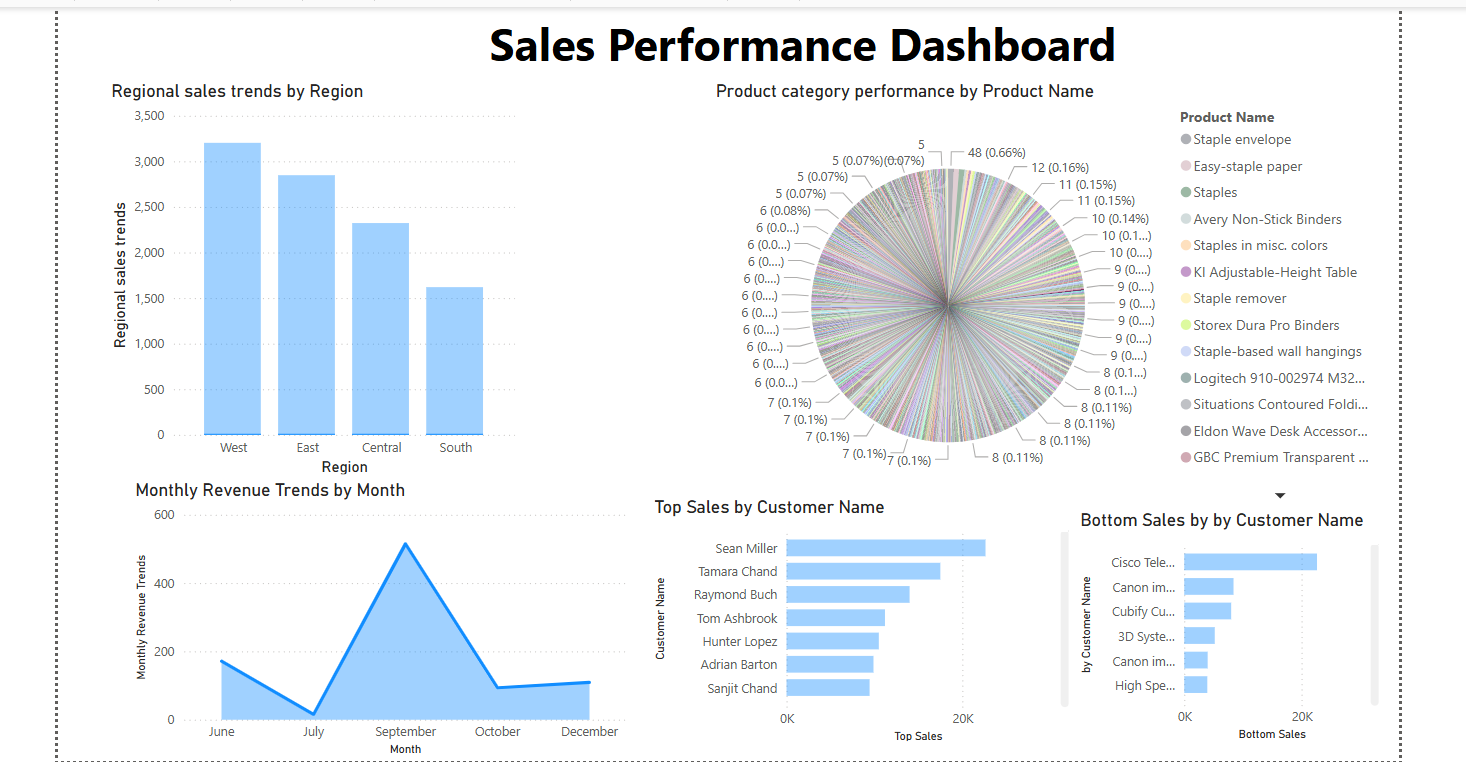

The page's visual inventory and layout, read from the dashboard file:
{"tool":"powerbi","page":{"name":"Page 1","canvas":[1280,720],"ordinal":0},"visuals":[{"type":"textbox","box":[348.1,0,770.6,81.6],"z":0},{"type":"columnChart","fields":{"Category":["Superstore.Region"],"Y":["Superstore.City"]},"box":[68.1,81.8,405.8,357.4],"z":1000},{"type":"pieChart","fields":{"Category":["Superstore.Product Name"],"Y":["Superstore.Quantity"]},"box":[699.6,103,566.3,377],"z":2000},{"type":"areaChart","fields":{"Y":["Superstore.Profit"],"Category":["Superstore.Order Date.Variation.Date Hierarchy.Month"]},"box":[68.1,451.2,478.5,268],"z":3000},{"type":"barChart","fields":{"Y":["Superstore.Sales"],"Category":["Superstore.Customer Name"]},"box":[564.8,466.4,405.8,239.2],"z":4000},{"type":"barChart","fields":{"Y":["Superstore.Sales"],"Category":["Superstore.Product Name"]},"box":[971,480,295,225],"z":5000}]}

Visuals, with their boxes in screenshot pixels (x1, y1, x2, y2):
textbox: bbox(365, 0, 1231, 57)
columnChart - Superstore.Region x Superstore.City: bbox(50, 58, 506, 459)
pieChart - Superstore.Product Name x Superstore.Quantity: bbox(760, 81, 1396, 505)
areaChart - Superstore.Profit x Superstore.Order Date.Variation.Date Hierarchy.Month: bbox(50, 473, 588, 761)
barChart - Superstore.Sales x Superstore.Customer Name: bbox(608, 490, 1064, 759)
barChart - Superstore.Sales x Superstore.Product Name: bbox(1065, 505, 1396, 758)
